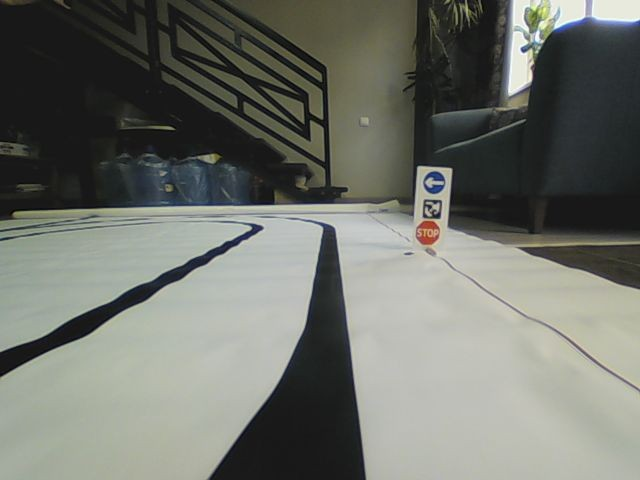Stop: (415, 219, 440, 246)
